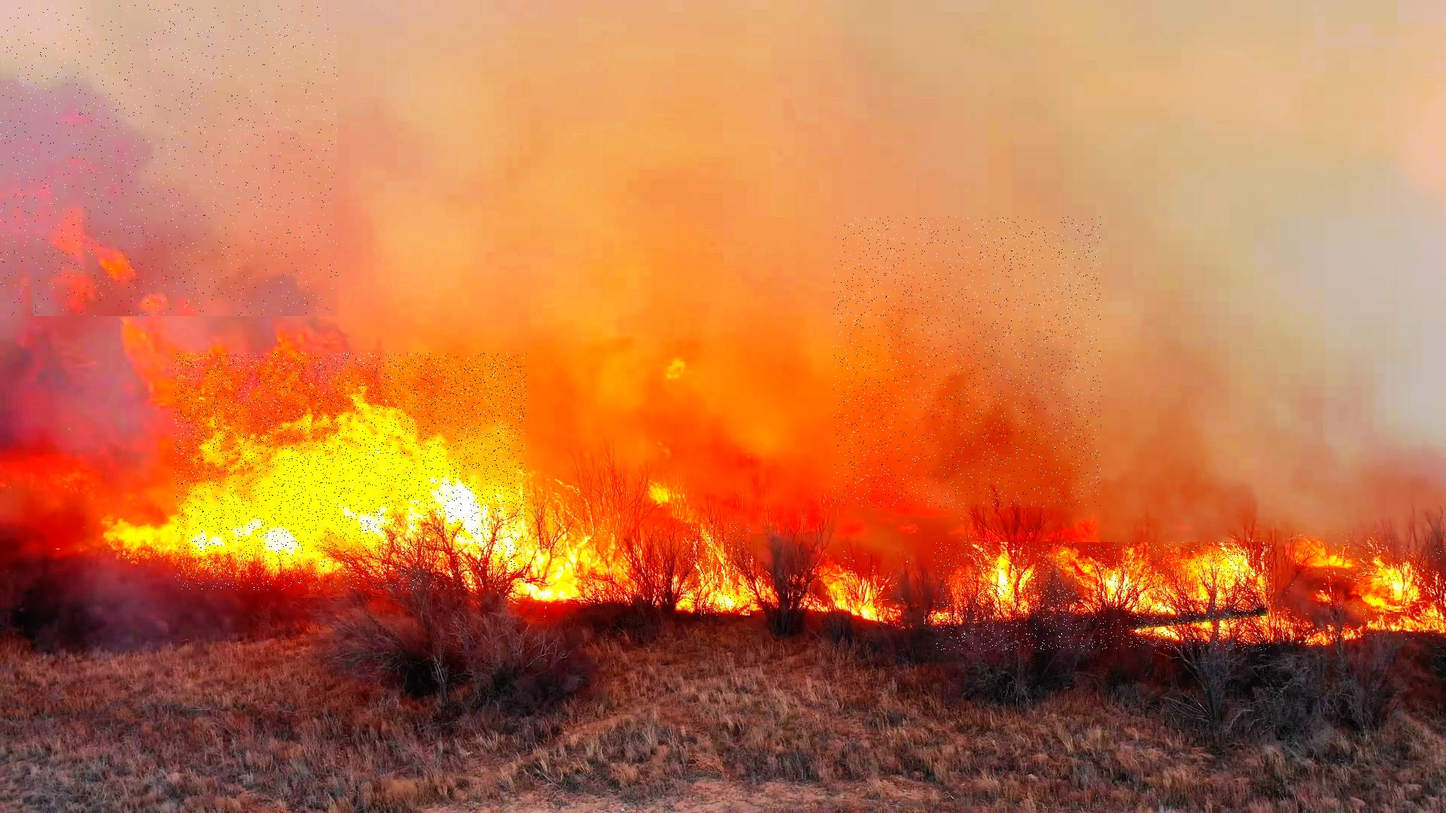fire: (175, 353, 527, 590), (934, 542, 1272, 651), (1344, 545, 1446, 641), (682, 524, 750, 615)
smoke: (0, 4, 337, 316), (833, 217, 1101, 507)
